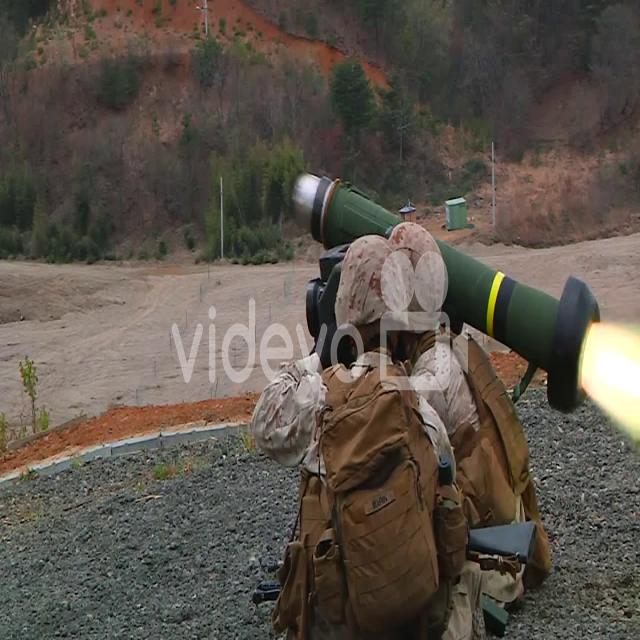bazooka: (285, 174, 605, 408)
